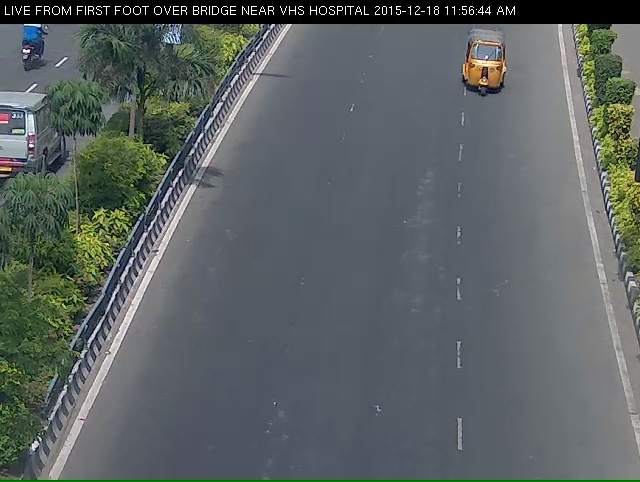Auto: (452, 34, 515, 110)
